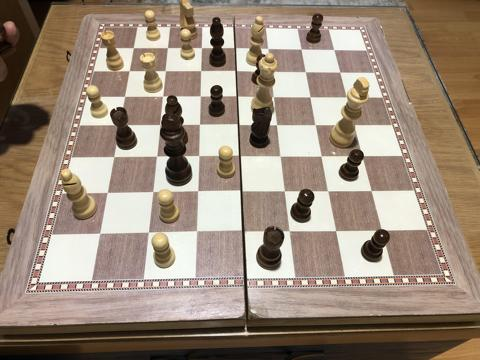xcorner: (328, 42, 341, 55), (296, 42, 309, 55), (263, 42, 276, 55), (196, 41, 209, 54), (162, 41, 175, 54), (231, 64, 244, 77), (160, 64, 173, 77), (232, 89, 245, 102), (195, 89, 208, 102), (157, 89, 170, 102), (119, 89, 132, 102), (272, 117, 285, 130), (233, 117, 246, 130), (357, 148, 370, 161), (235, 149, 248, 162), (193, 149, 206, 162), (108, 150, 121, 163), (366, 183, 379, 196), (280, 184, 293, 197), (192, 185, 205, 198), (285, 224, 298, 237), (238, 225, 251, 238), (191, 226, 204, 239), (128, 41, 141, 53), (334, 65, 347, 77), (300, 65, 313, 77), (266, 64, 278, 77), (196, 64, 208, 77), (124, 64, 137, 76), (341, 90, 354, 102), (305, 90, 318, 102), (269, 89, 281, 102), (349, 117, 361, 130), (311, 117, 323, 130), (194, 118, 207, 130), (154, 118, 167, 130), (114, 118, 127, 130), (317, 148, 329, 161), (276, 149, 289, 161), (151, 150, 164, 162), (324, 183, 336, 196), (237, 184, 249, 197), (147, 186, 160, 198), (102, 186, 114, 199), (377, 223, 390, 235), (332, 223, 344, 236), (94, 228, 107, 240), (230, 42, 242, 54), (143, 227, 155, 239)
